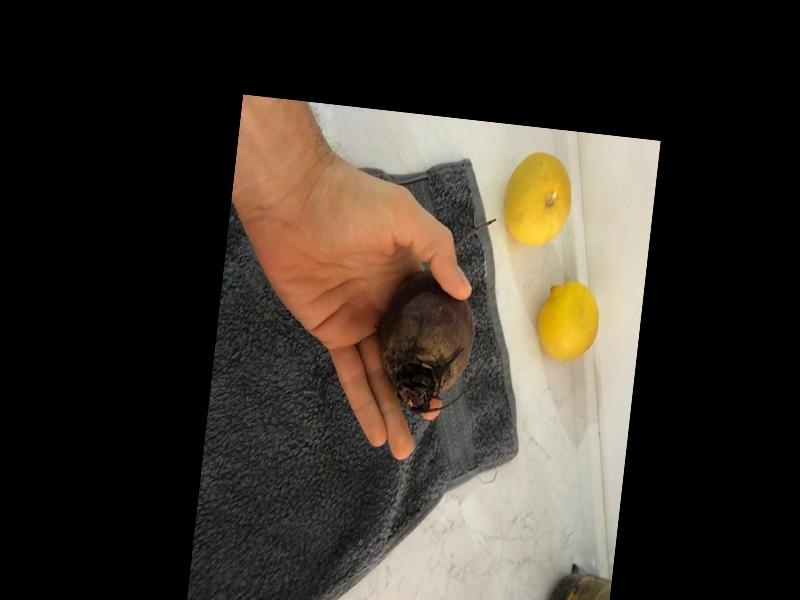Beet: (371, 206, 496, 418)
